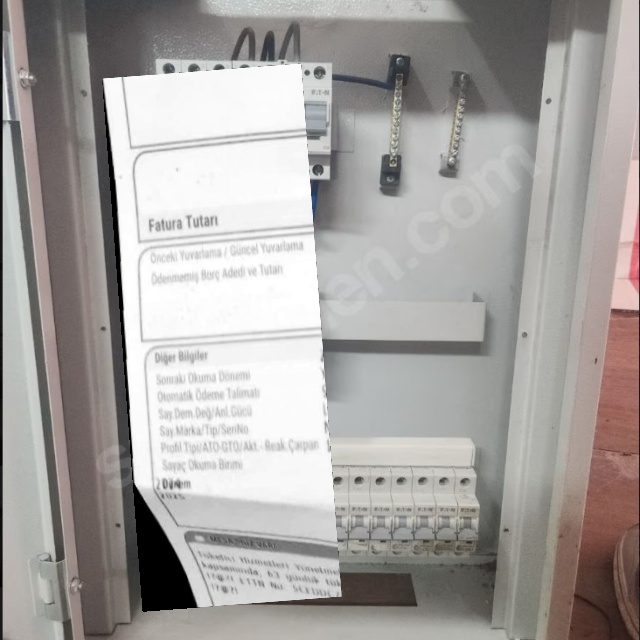electricity-bill: (102, 63, 342, 612)
